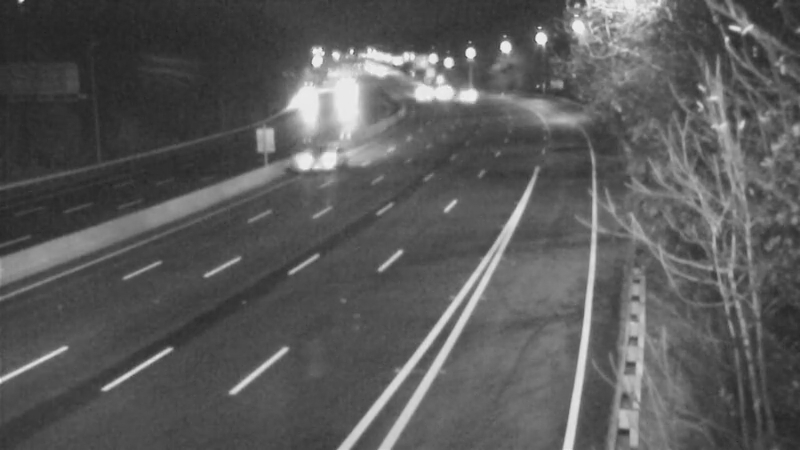vehicle: (277, 123, 357, 203), (419, 65, 469, 115), (443, 69, 493, 119), (399, 68, 449, 118), (324, 69, 374, 119)
